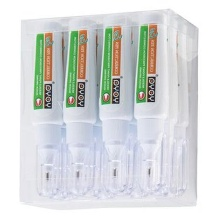book: (15, 4, 201, 212)
correction_fluid: (95, 10, 137, 196), (61, 13, 100, 197), (132, 8, 170, 195), (28, 18, 64, 199)
